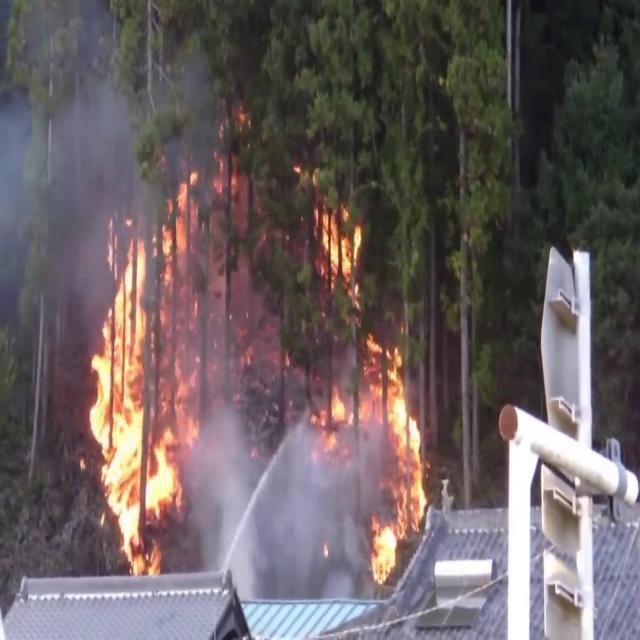Fire: (304, 202, 432, 582), (79, 194, 201, 573)
Smoke: (0, 0, 228, 328), (180, 386, 393, 599)
